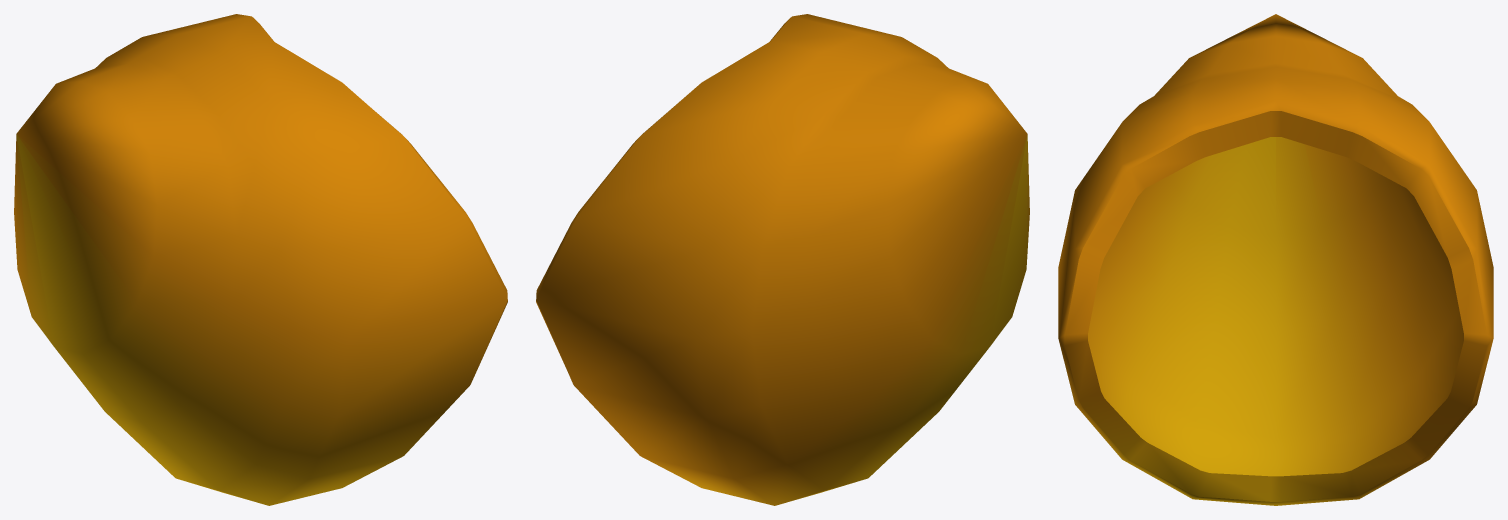
File: draconend.fbx
The picture shows the model from 3 angles, left to right: view 1: azimuth 30°, elevation 25°; view 2: azimuth 150°, elevation 25°; view 3: azimuth 270°, elevation 25°; orthographic projection. The views are drawn at different scales.
Visible parts, largest first — view 1: Circle.002; view 2: Circle.002; view 3: Circle.002.
Boxes of the visible parts, left/top/right/bottom form: Circle.002: left=14, top=14, right=507, bottom=505; Circle.002: left=536, top=14, right=1029, bottom=505; Circle.002: left=1058, top=14, right=1493, bottom=505.
Bounding box in the file's own units: 4.36 × 4.86 × 4.73.
